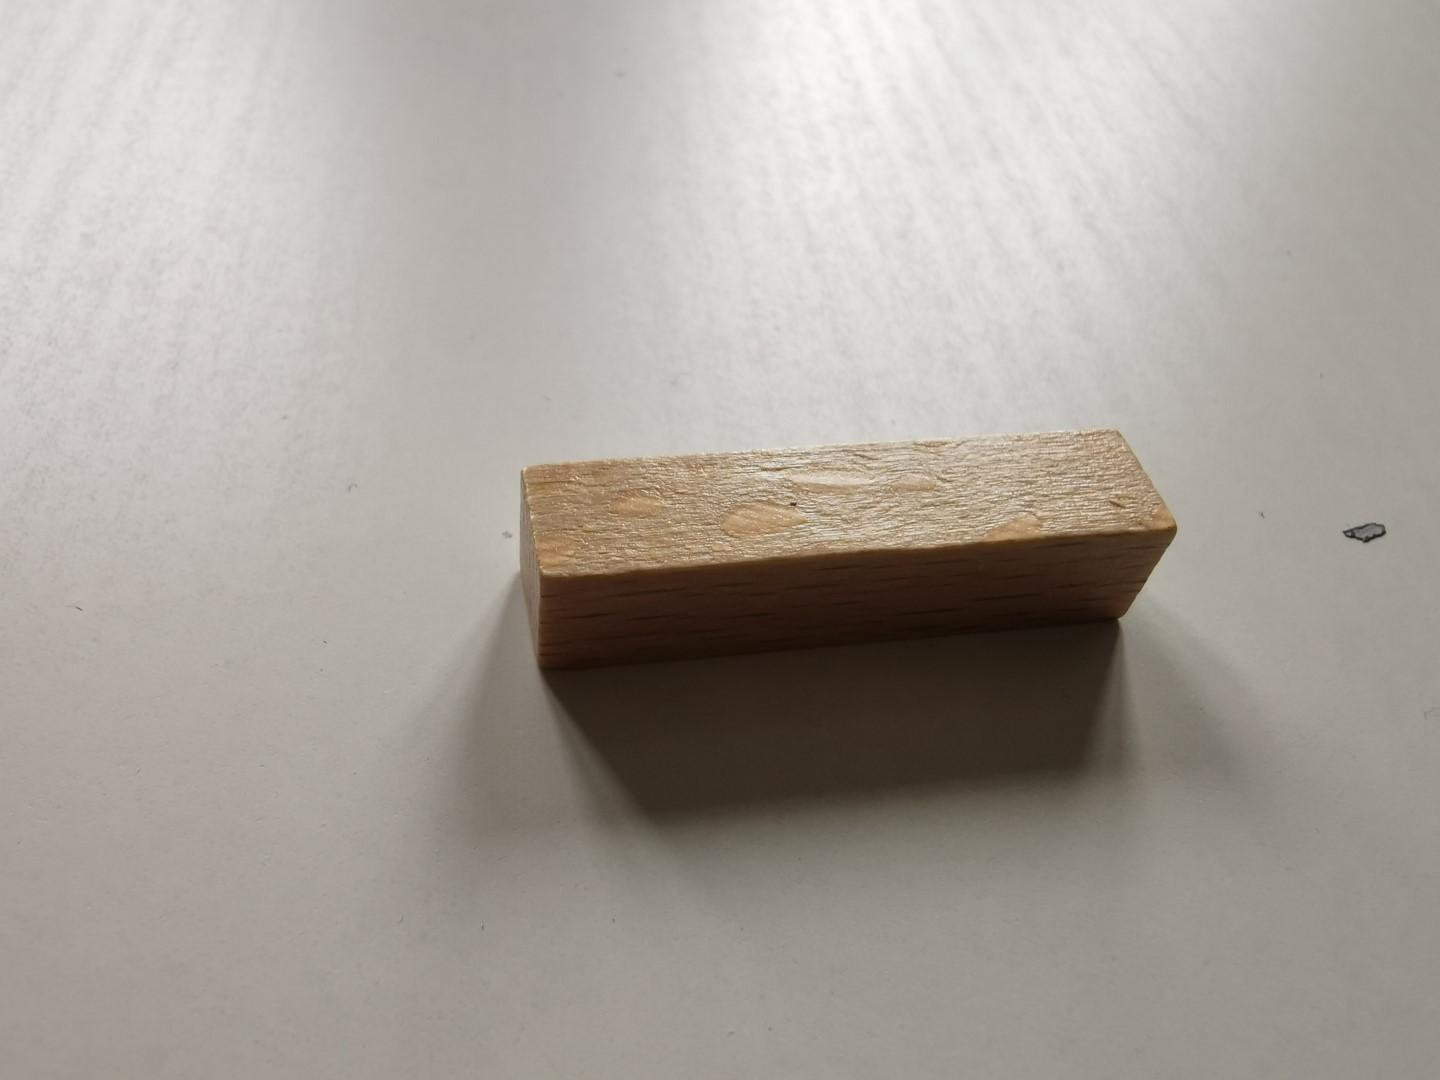jenga: (520, 430, 1179, 667)
